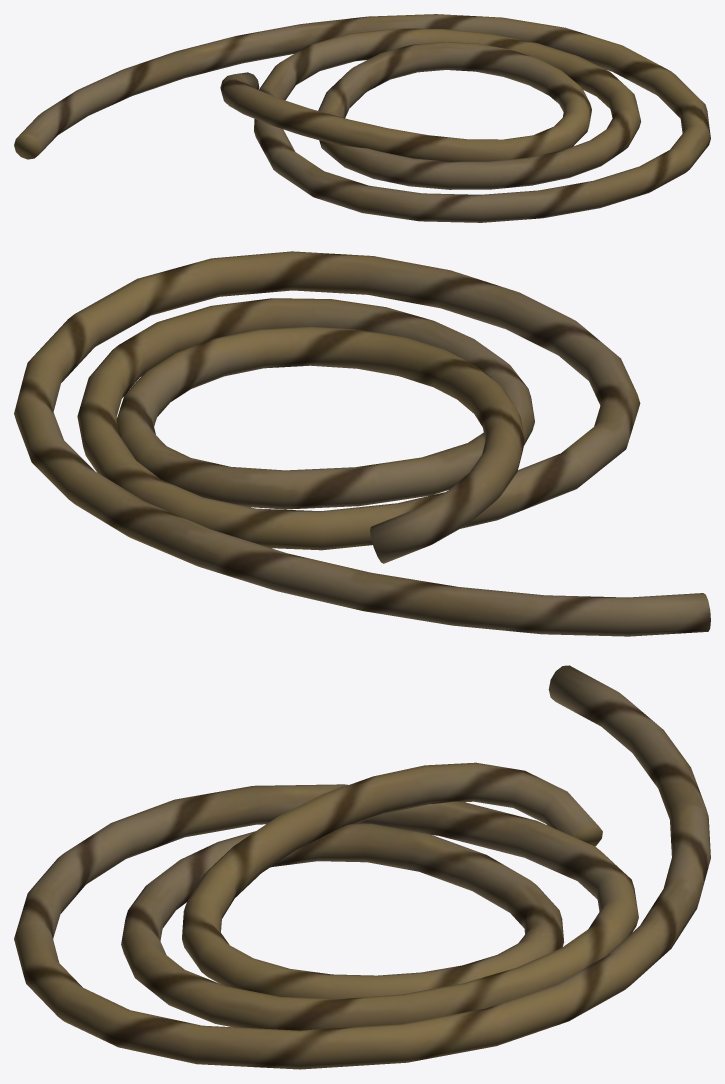
File: prop_rope_3.glb
3 renders of one model, top to bottom at view 1: azimuth 30°, elevation 25°; view 2: azimuth 150°, elevation 25°; view 3: azimuth 270°, elevation 25°, orthographic. The views are drawn at different scales.
Parts seen in each view (by area): view 1: Rope_3; view 2: Rope_3; view 3: Rope_3.
Boxes of the visible parts, x1,y1,x2,y2 form: Rope_3: (14,14,710,222); Rope_3: (14,251,710,636); Rope_3: (14,665,710,1069).
Bounding box in the file's own units: 1.23 × 0.1017 × 0.9508.
Materials: 1 (1 with a texture image).
